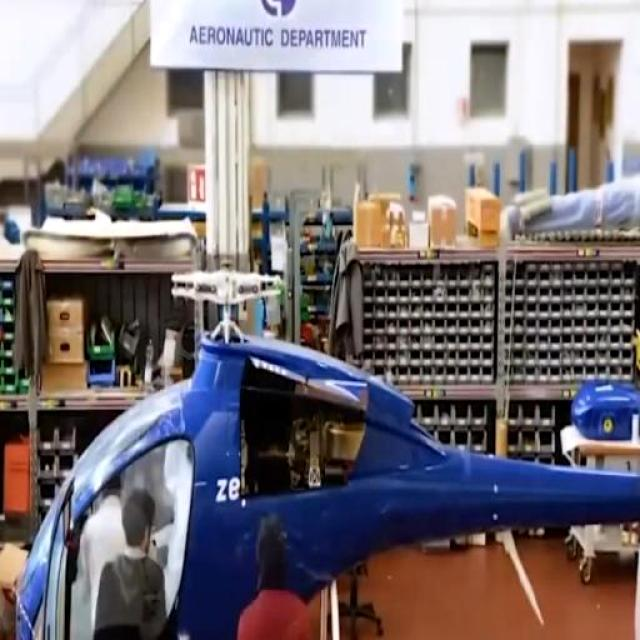drone: (5, 244, 640, 640)
